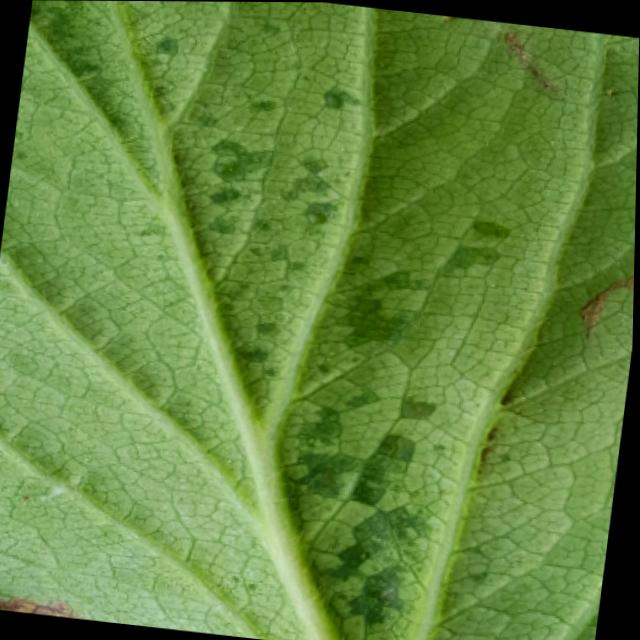Angular Leafspot: (10, 0, 528, 640)
